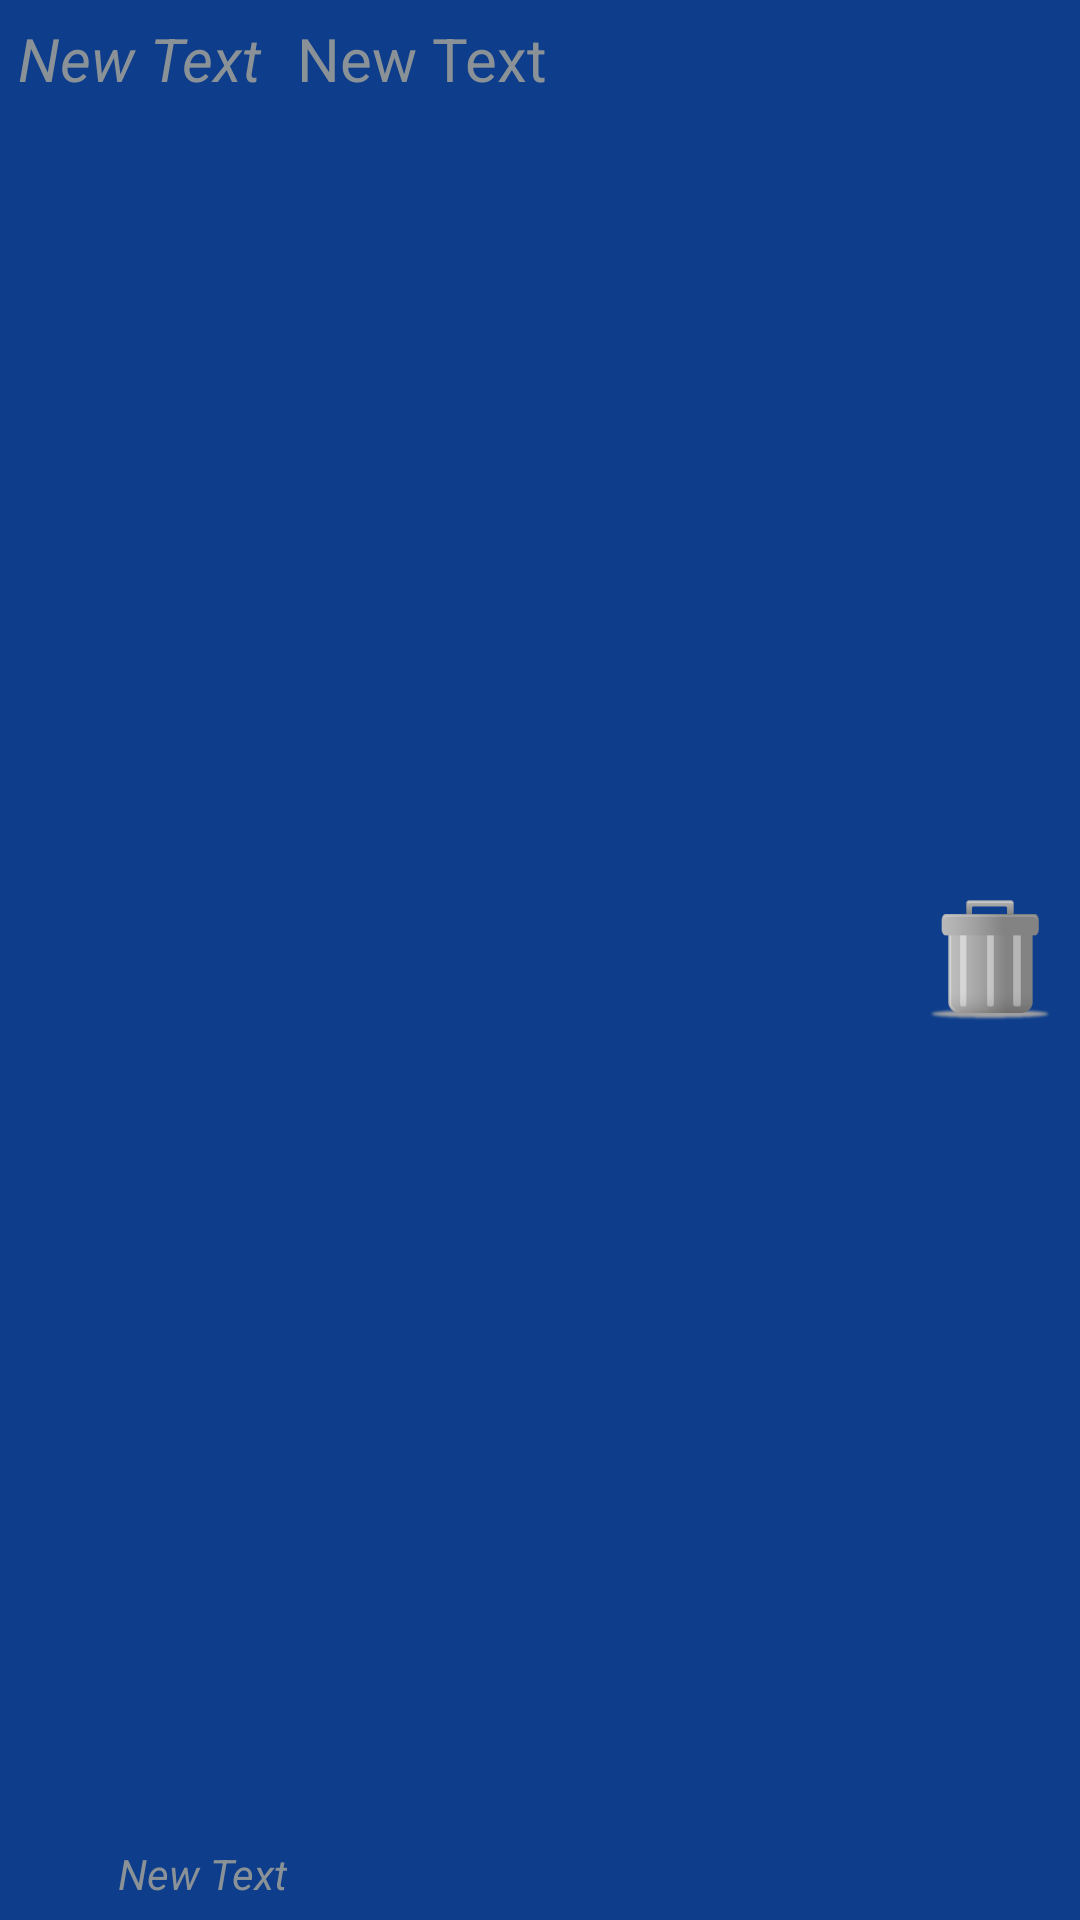

Screen size 1080w x 1920h. Icon name, then its box in pixels as (x1, y1, x2, y2):
trash: (932, 900, 1048, 1019)
